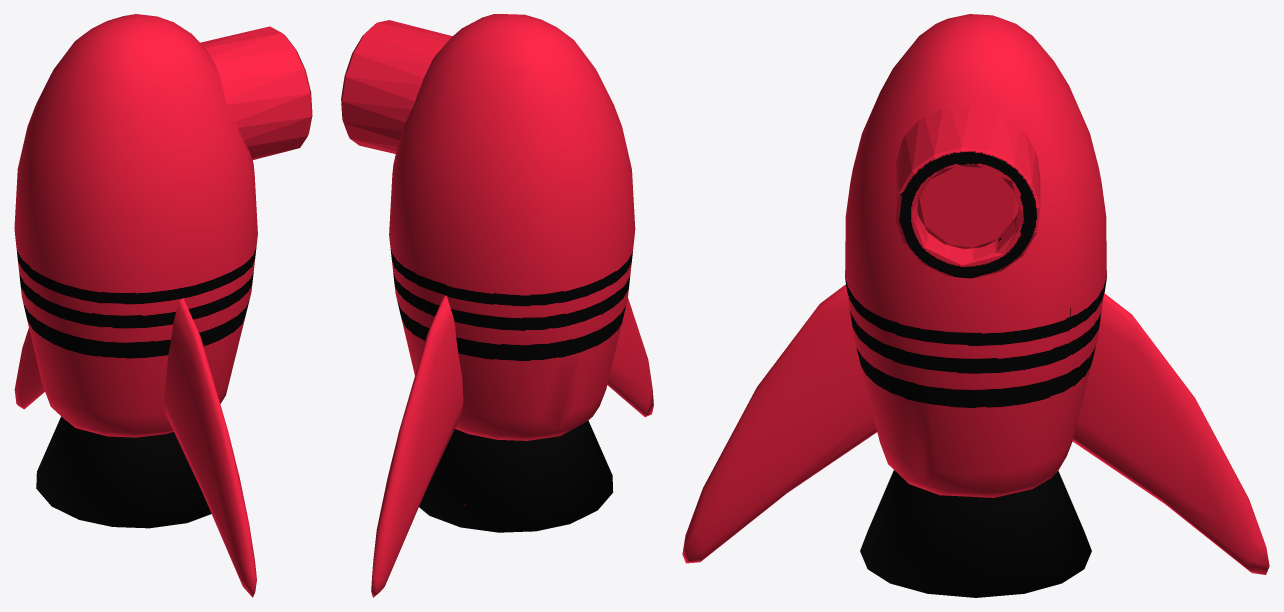
The model's file is RedShip62.fbx.
The picture shows the model from 3 angles, left to right: view 1: azimuth 30°, elevation 25°; view 2: azimuth 150°, elevation 25°; view 3: azimuth 270°, elevation 25°; orthographic projection. The views are drawn at different scales.
Visible parts, largest first — view 1: Cylinder.002; view 2: Cylinder.002; view 3: Cylinder.002.
Boxes of the visible parts, <box> form: Cylinder.002: <box>14,14,312,597</box>; Cylinder.002: <box>341,14,653,597</box>; Cylinder.002: <box>682,14,1269,597</box>.
Size of the model in its own units: 118 by 219 by 213.
1 material, 1 textured.
